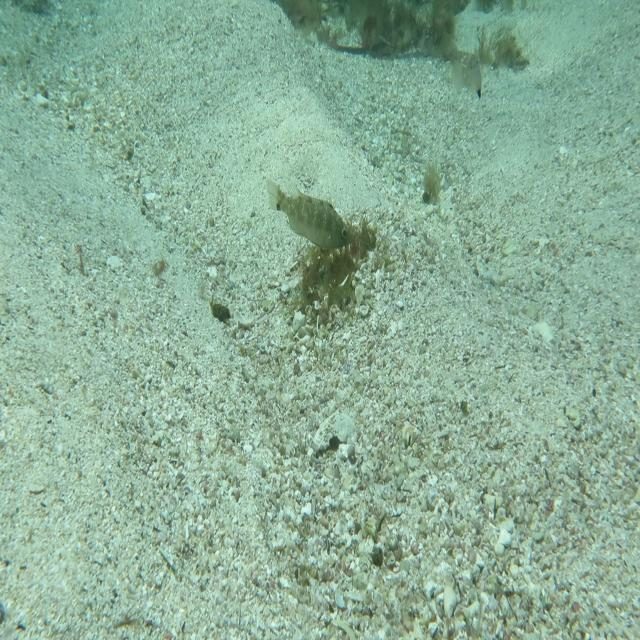INSF: (264, 169, 356, 256)
core_nest: (328, 214, 377, 258)
female: (448, 45, 486, 108)
nest: (296, 195, 390, 318)
